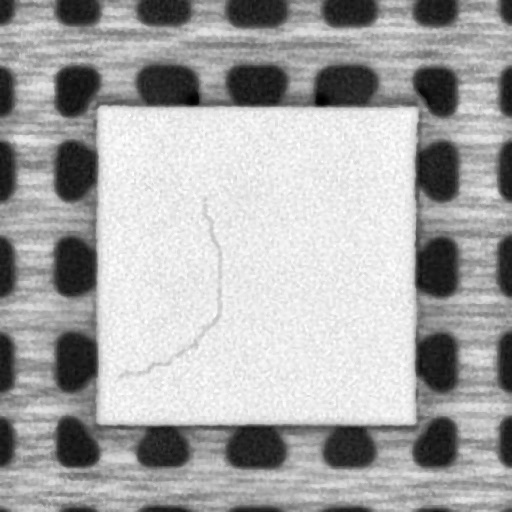DIE_CRACK: (112, 195, 225, 378)
